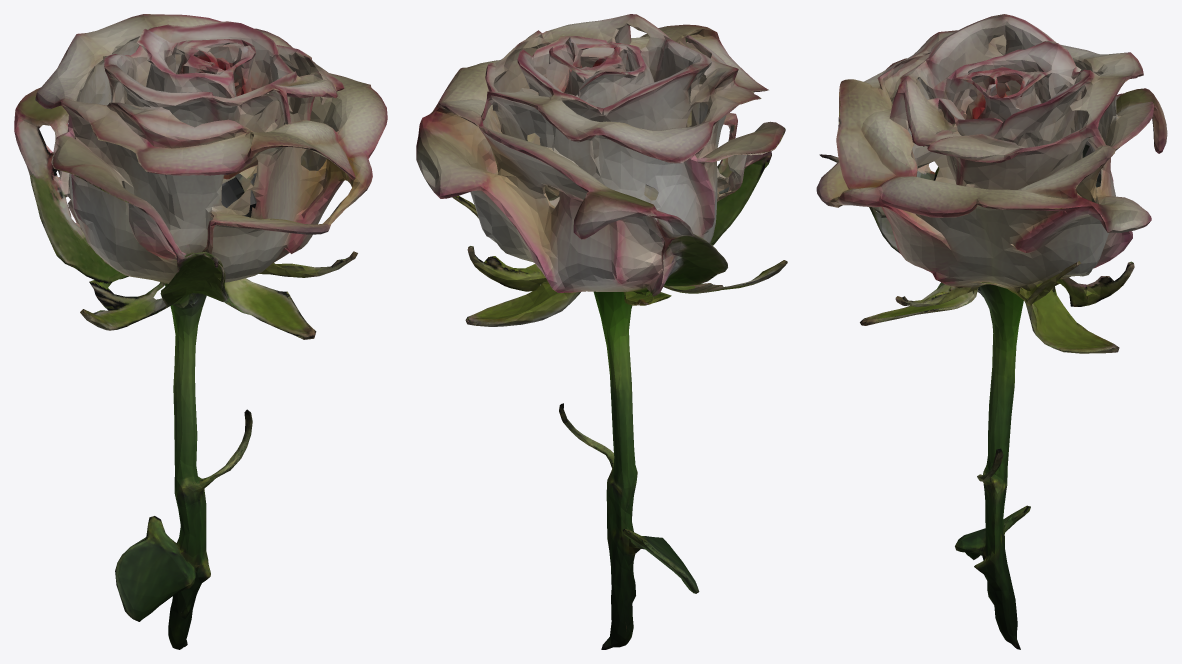
3 renders of one model, left to right at view 1: azimuth 30°, elevation 25°; view 2: azimuth 150°, elevation 25°; view 3: azimuth 270°, elevation 25°, orthographic.
Visible parts, largest first — view 1: world; view 2: world; view 3: world.
Boxes of the visible parts, x1,y1,x2,y2 form: world: [14, 14, 387, 649]; world: [416, 14, 787, 649]; world: [816, 14, 1167, 649].
Bounding box in the file's own units: 0.5184 × 0.9386 × 0.5009.
Materials: 1 (1 with a texture image).
